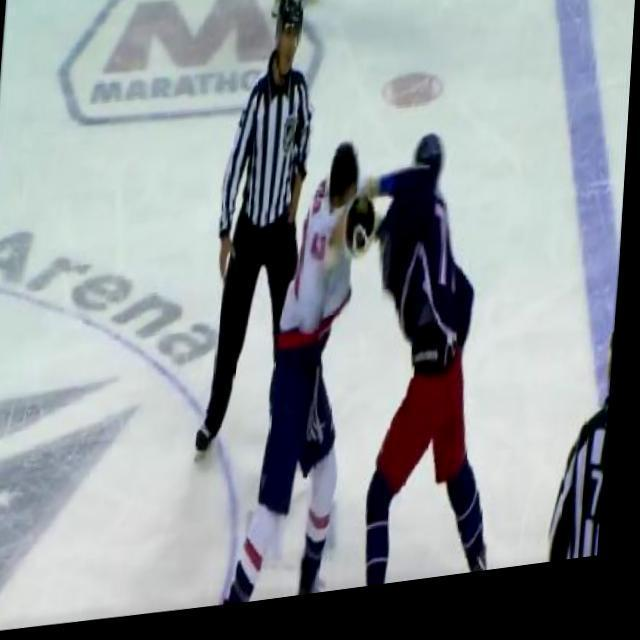fight: (258, 131, 507, 610)
